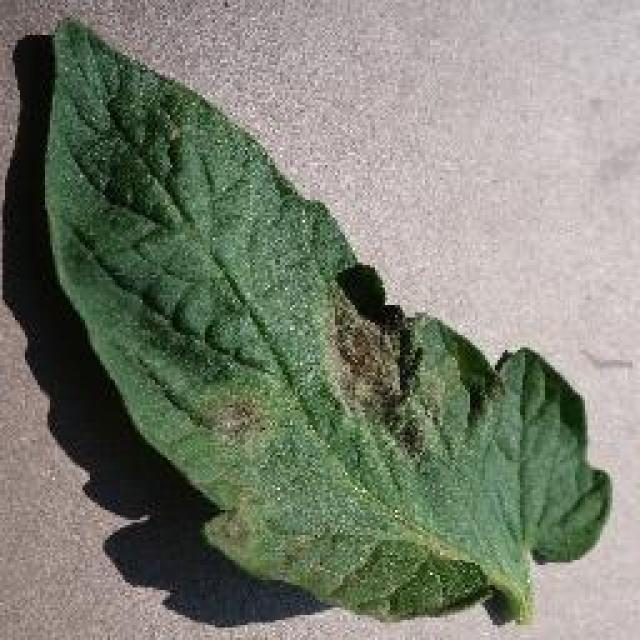Tomato___Late_blight: (40, 16, 612, 628)
